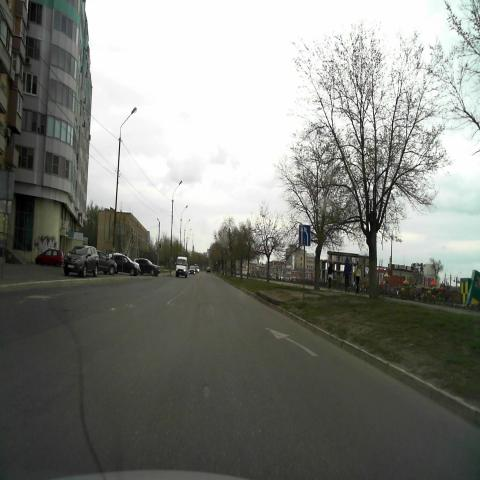5_15_5: (299, 224, 310, 246)
